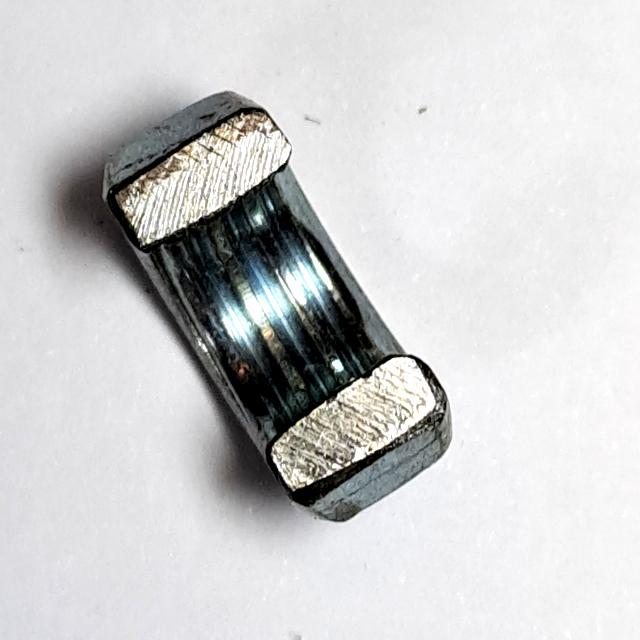Side-Fracture: (87, 79, 468, 534)
